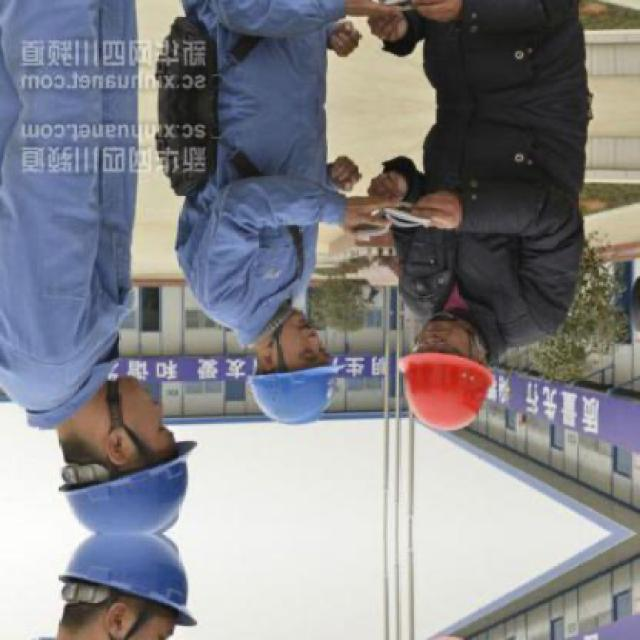con casco: (412, 313, 557, 449), (220, 300, 353, 441), (57, 411, 186, 537)
